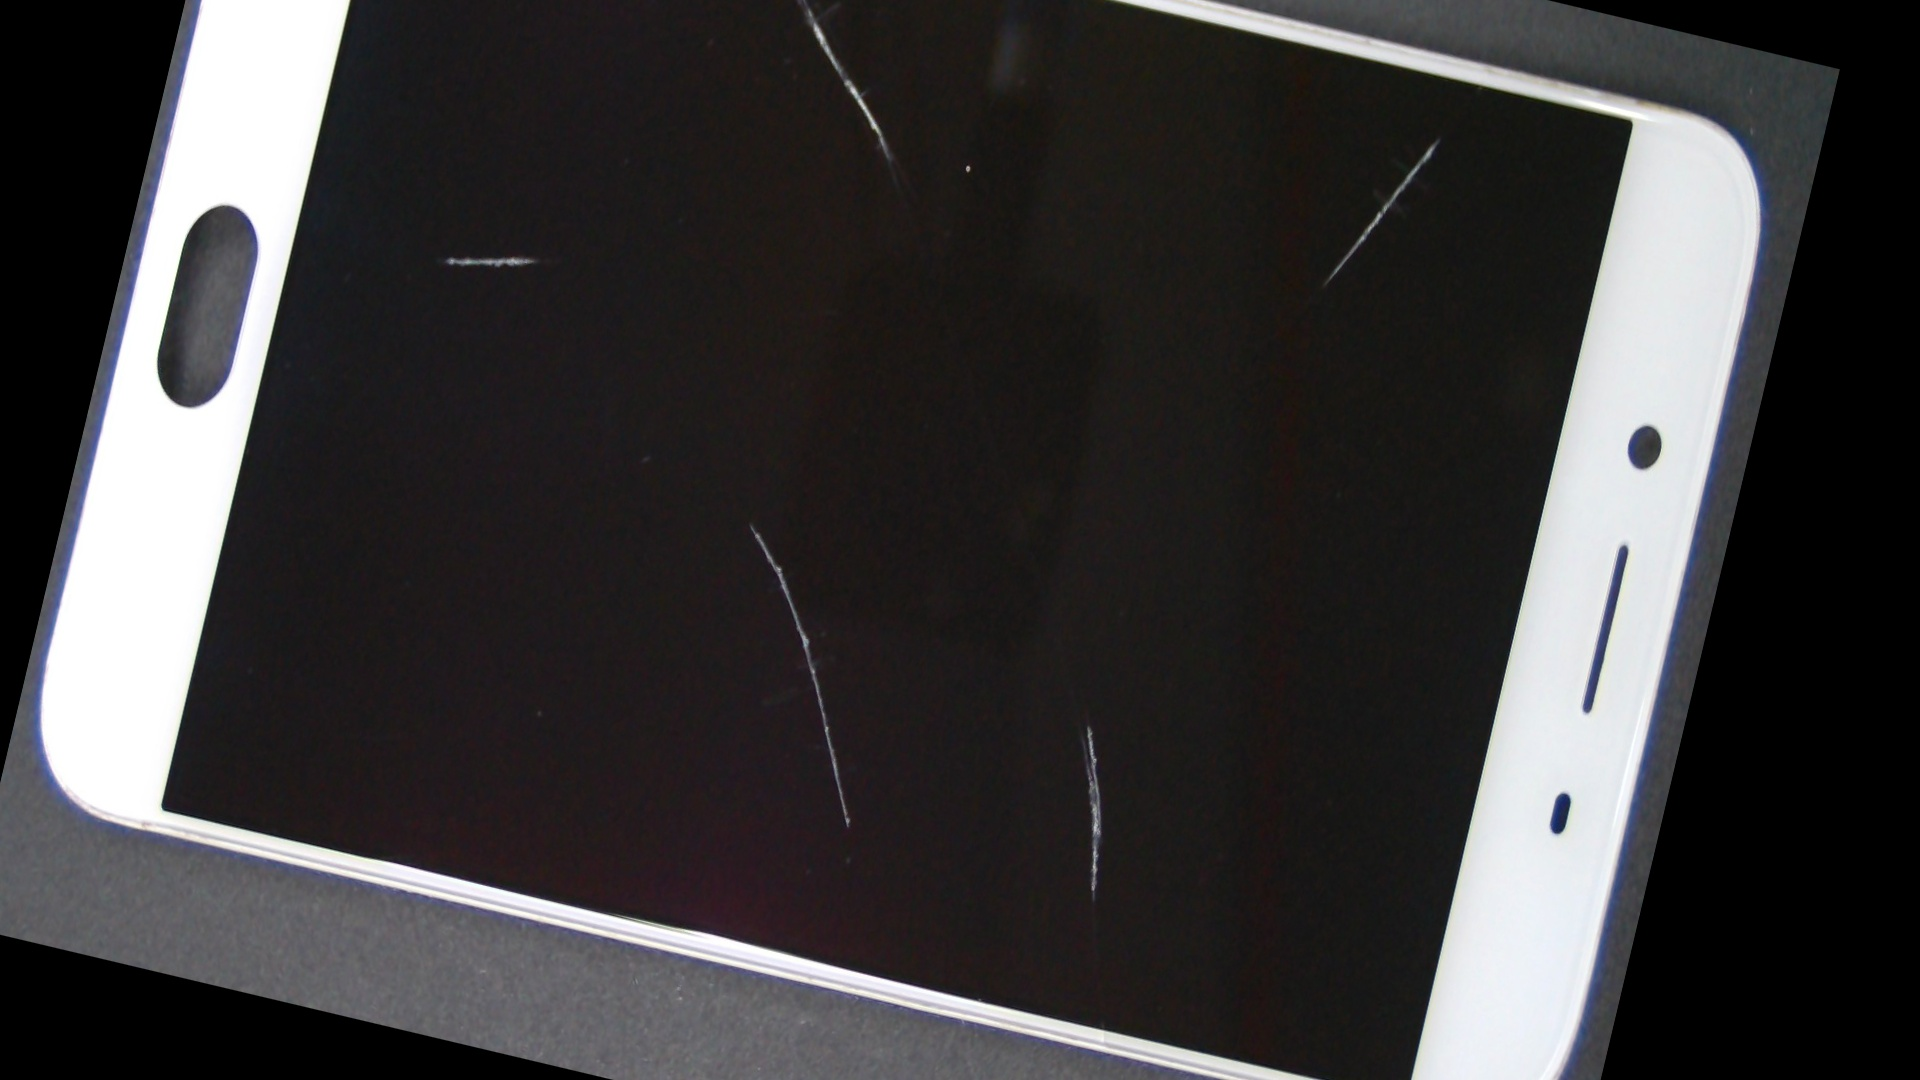oil: (487, 211, 1695, 1080), (345, 108, 1156, 938), (812, 0, 1822, 303), (287, 0, 791, 539), (492, 0, 1095, 113)
